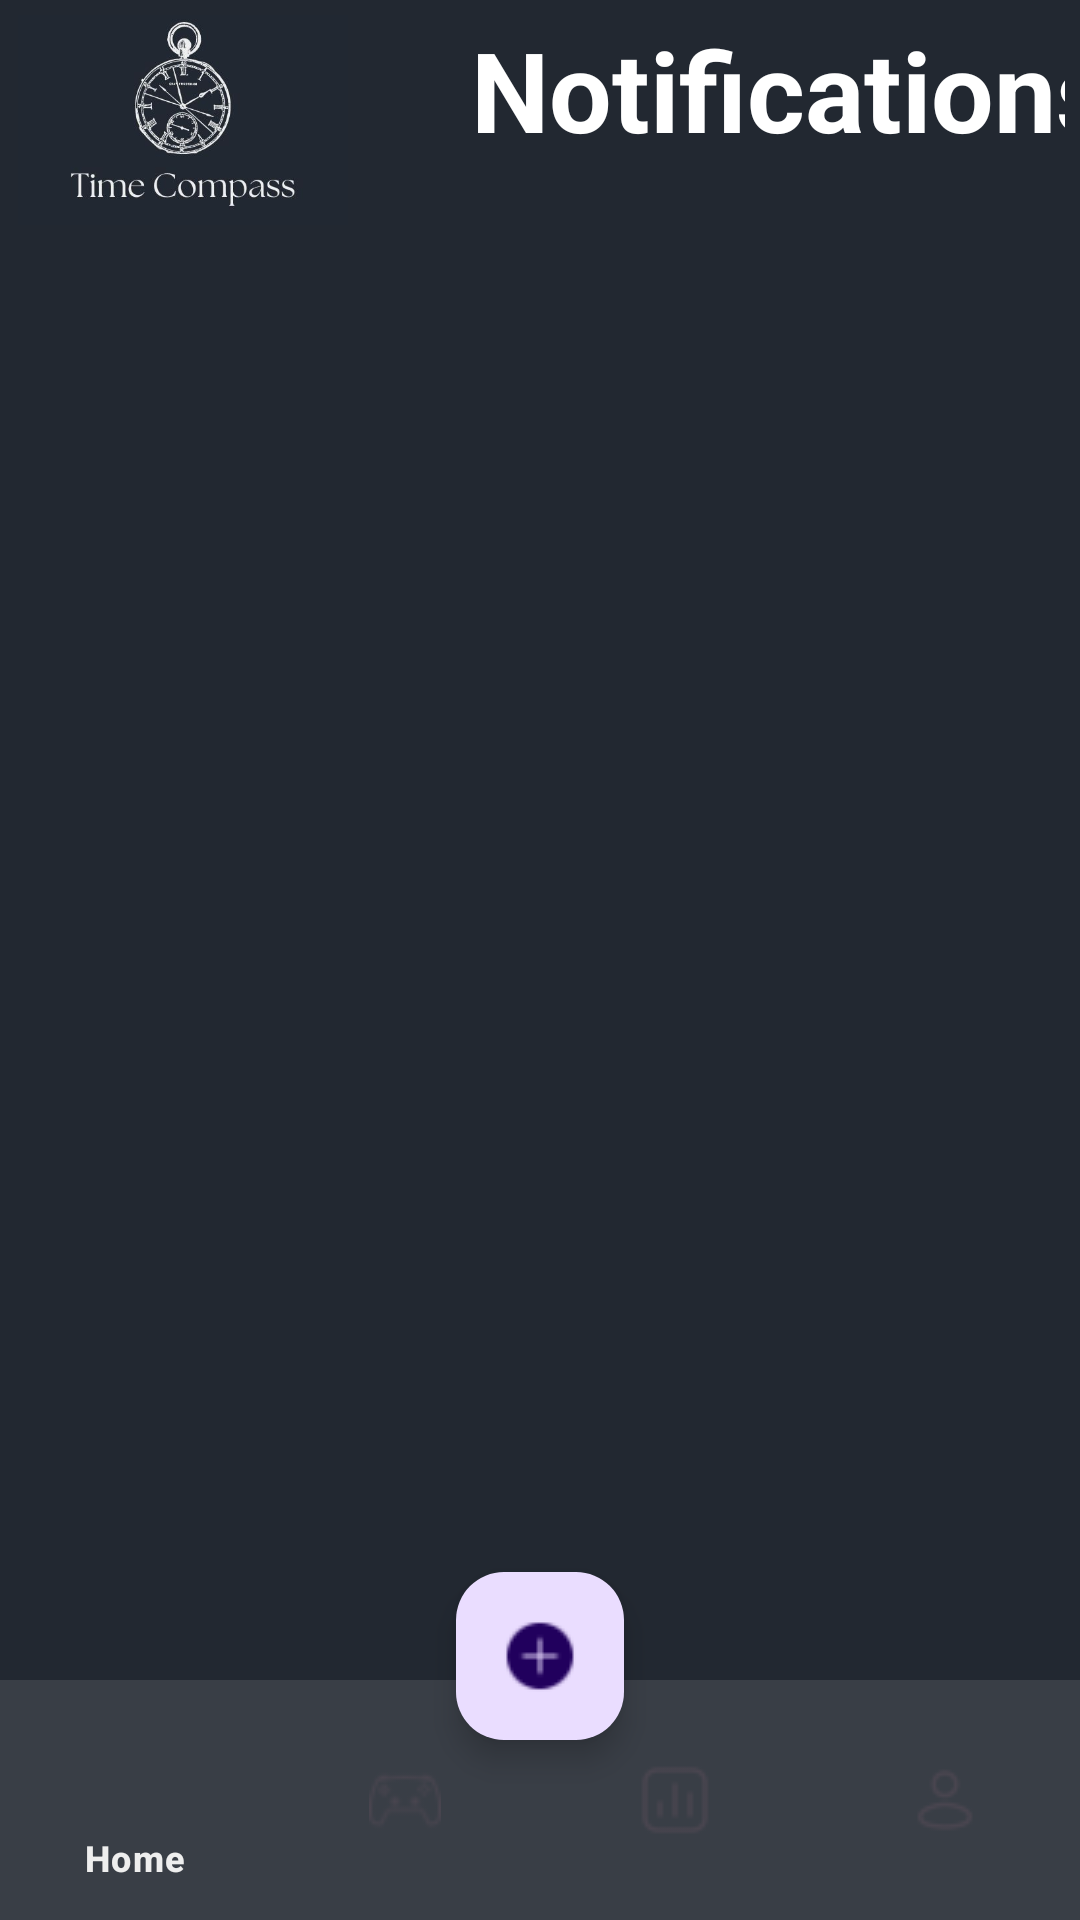

Where icons sit on this 1080px×1920px app screen, as detection(x1, y1, x2, y2):
plus: detection(456, 1572, 624, 1740)
